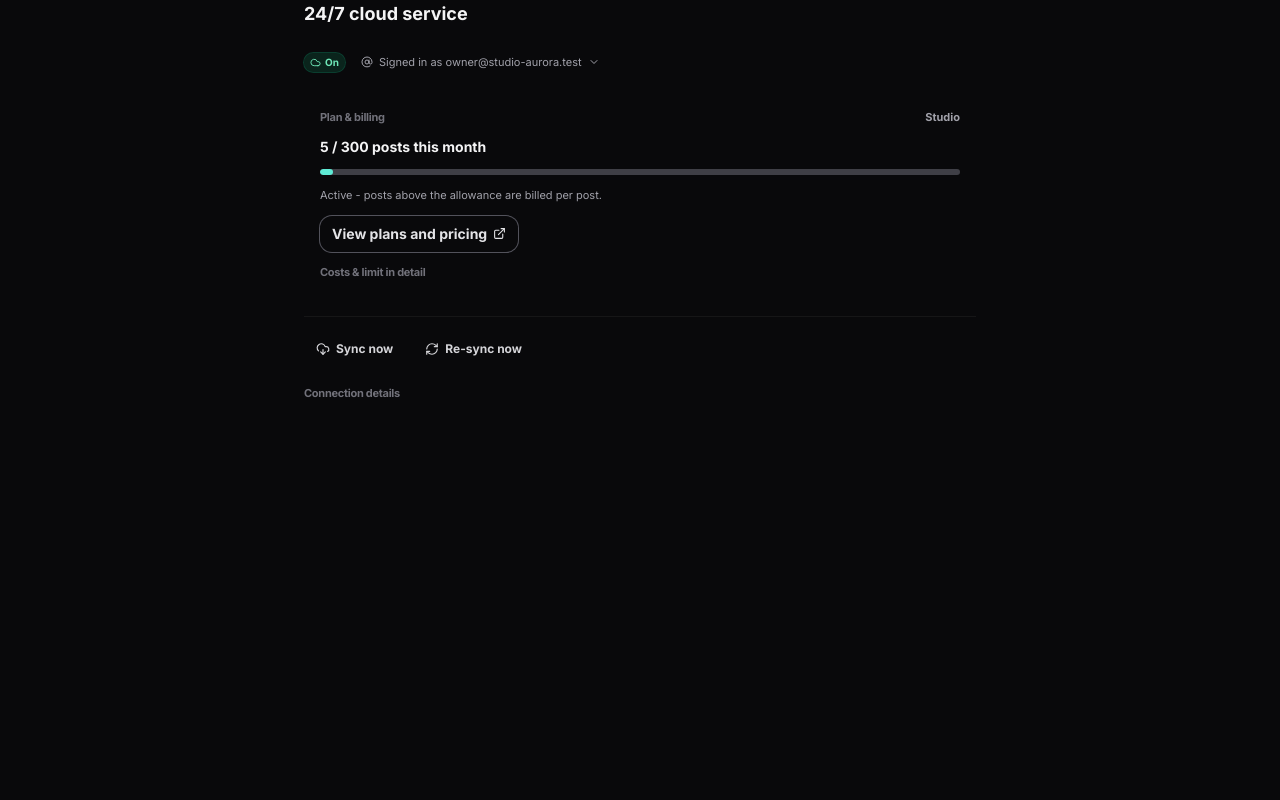
Cloud › CONNECTED: the account menu exposes manage-billing, manage-account, sign-out and eject
The identity row is the menu trigger (the real email).
Click the button with aria-label "account menu for owner@studio-aurora.test" at (480, 62), box [355, 52, 606, 72]
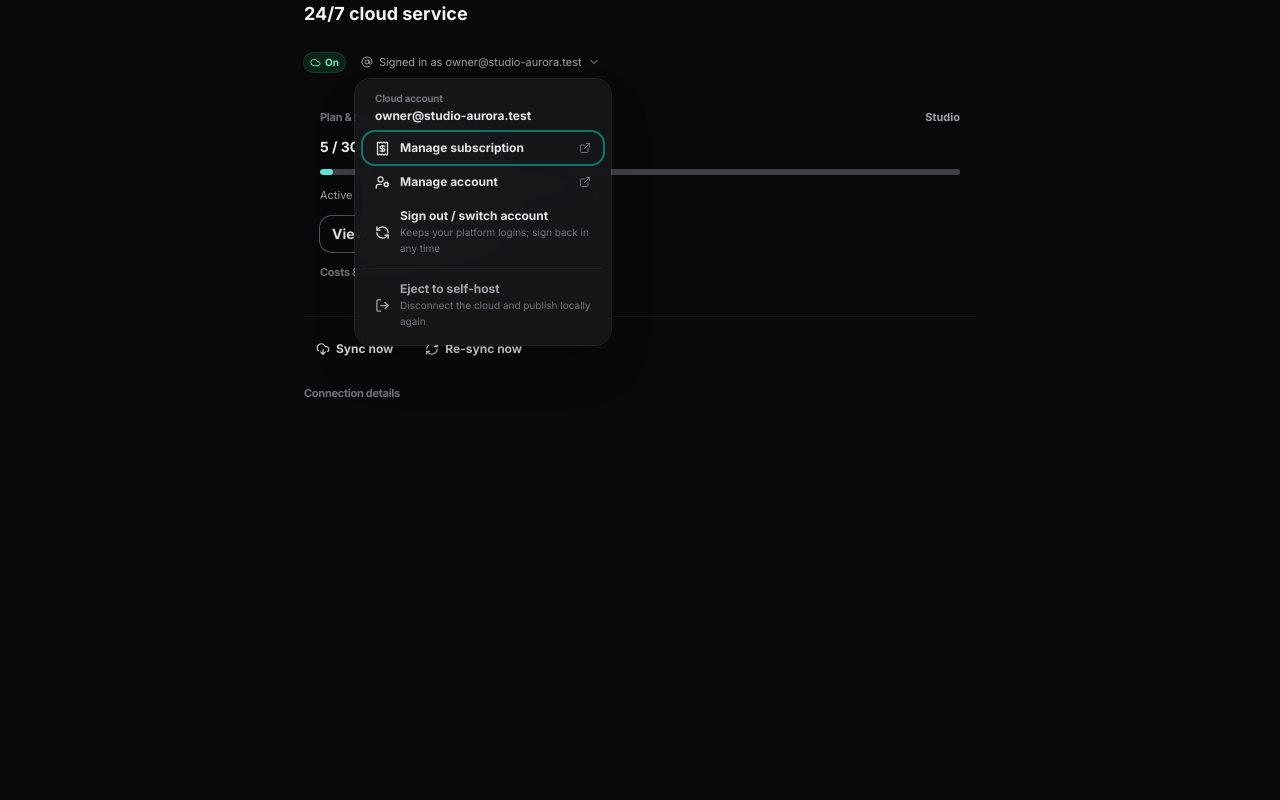
Result: the button "Sign out / switch account" is shown at [363, 200, 603, 264]
Result: the button "Eject to self-host" is shown at [363, 273, 603, 337]
Result: the button "Manage subscription" is shown at [363, 132, 603, 164]
